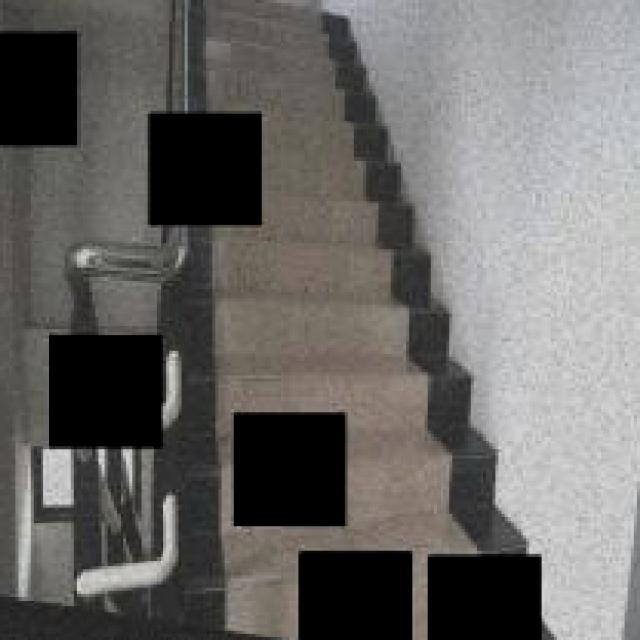upstair: (189, 235, 469, 398), (192, 1, 386, 106)
